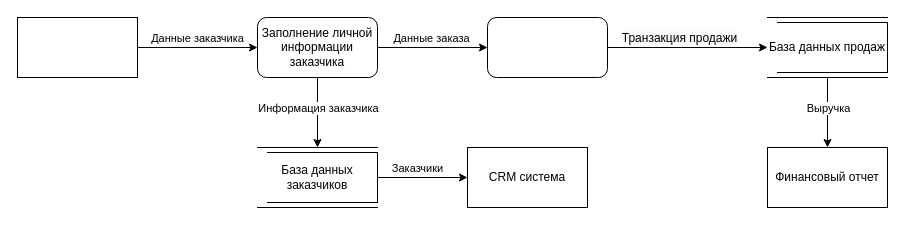
Some shapes in this 905 by 225 pixel diagram are drawn without their labels. Each missing label, with the centre of its shape:
Заказчик: pixel 77 47
Формирование заказа: pixel 547 47
